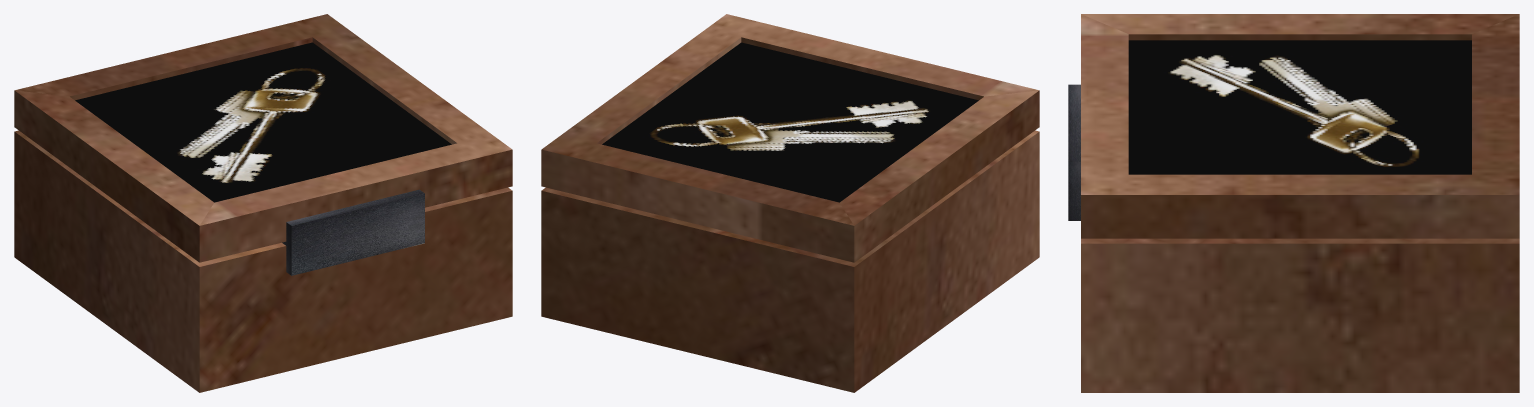
Rendered from keys box.FBX.
The picture shows the model from 3 angles, left to right: view 1: azimuth 30°, elevation 25°; view 2: azimuth 150°, elevation 25°; view 3: azimuth 270°, elevation 25°; orthographic projection. The views are drawn at different scales.
Parts seen in each view (by area): view 1: Box001, Object001, Object003, Box002; view 2: Box001, Object001, Object003; view 3: Box001, Object001, Object003, Box002.
Boxes of the visible parts, x1=… form: Box001: x1=14, y1=130, x2=512, y2=392; Object001: x1=14, y1=14, x2=512, y2=262; Object003: x1=75, y1=42, x2=451, y2=202; Box002: x1=282, y1=189, x2=424, y2=275; Box001: x1=541, y1=130, x2=1039, y2=392; Object001: x1=541, y1=14, x2=1039, y2=262; Object003: x1=602, y1=42, x2=978, y2=202; Box001: x1=1081, y1=238, x2=1519, y2=392; Object001: x1=1081, y1=14, x2=1519, y2=238; Object003: x1=1128, y1=40, x2=1471, y2=174; Box002: x1=1068, y1=84, x2=1080, y2=220.
Size of the model in its own units: 60.6 by 30.91 by 63.88.
4 materials, 4 textured.
